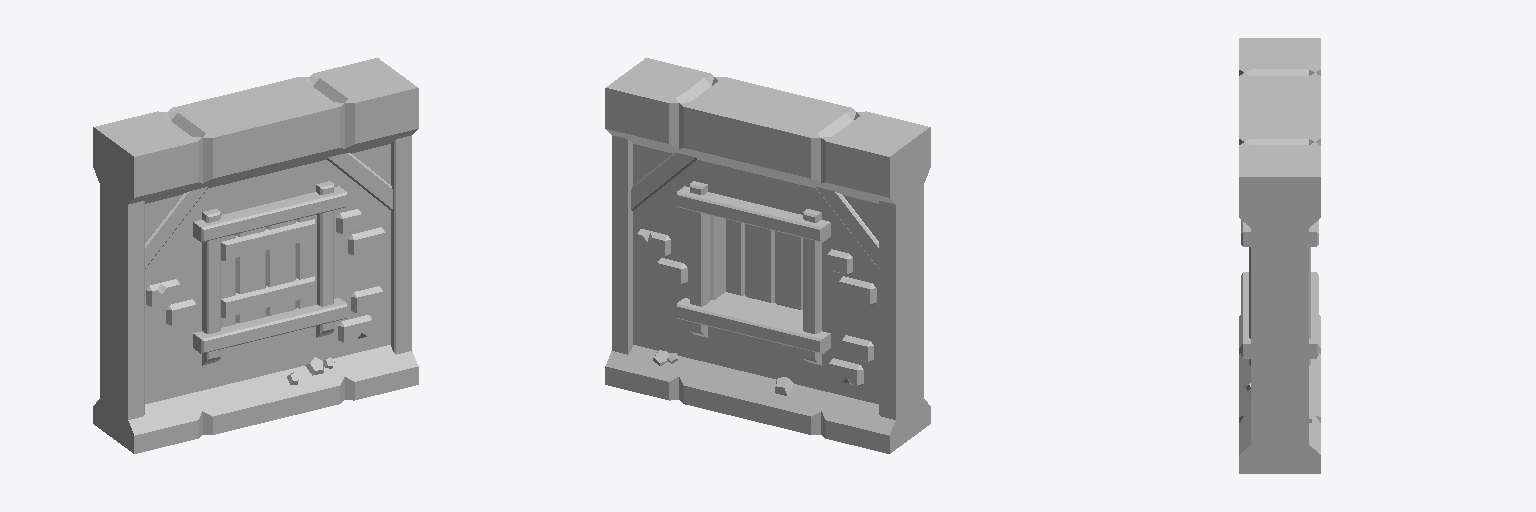
The model's file is wall_window_closed_scaffold.obj.
3 views of the same model, side by side, from view 1: azimuth 30°, elevation 25°; view 2: azimuth 150°, elevation 25°; view 3: azimuth 270°, elevation 25° (orthographic).
Parts seen in each view (by area): view 1: wall_window_closed_scaffold; view 2: wall_window_closed_scaffold; view 3: wall_window_closed_scaffold.
Part boxes in pixels (x1,y1,x2,y2): wall_window_closed_scaffold: (93, 58, 418, 453); wall_window_closed_scaffold: (605, 58, 930, 453); wall_window_closed_scaffold: (1239, 38, 1320, 473).
Bounding box in the file's own units: 4 × 4 × 1.